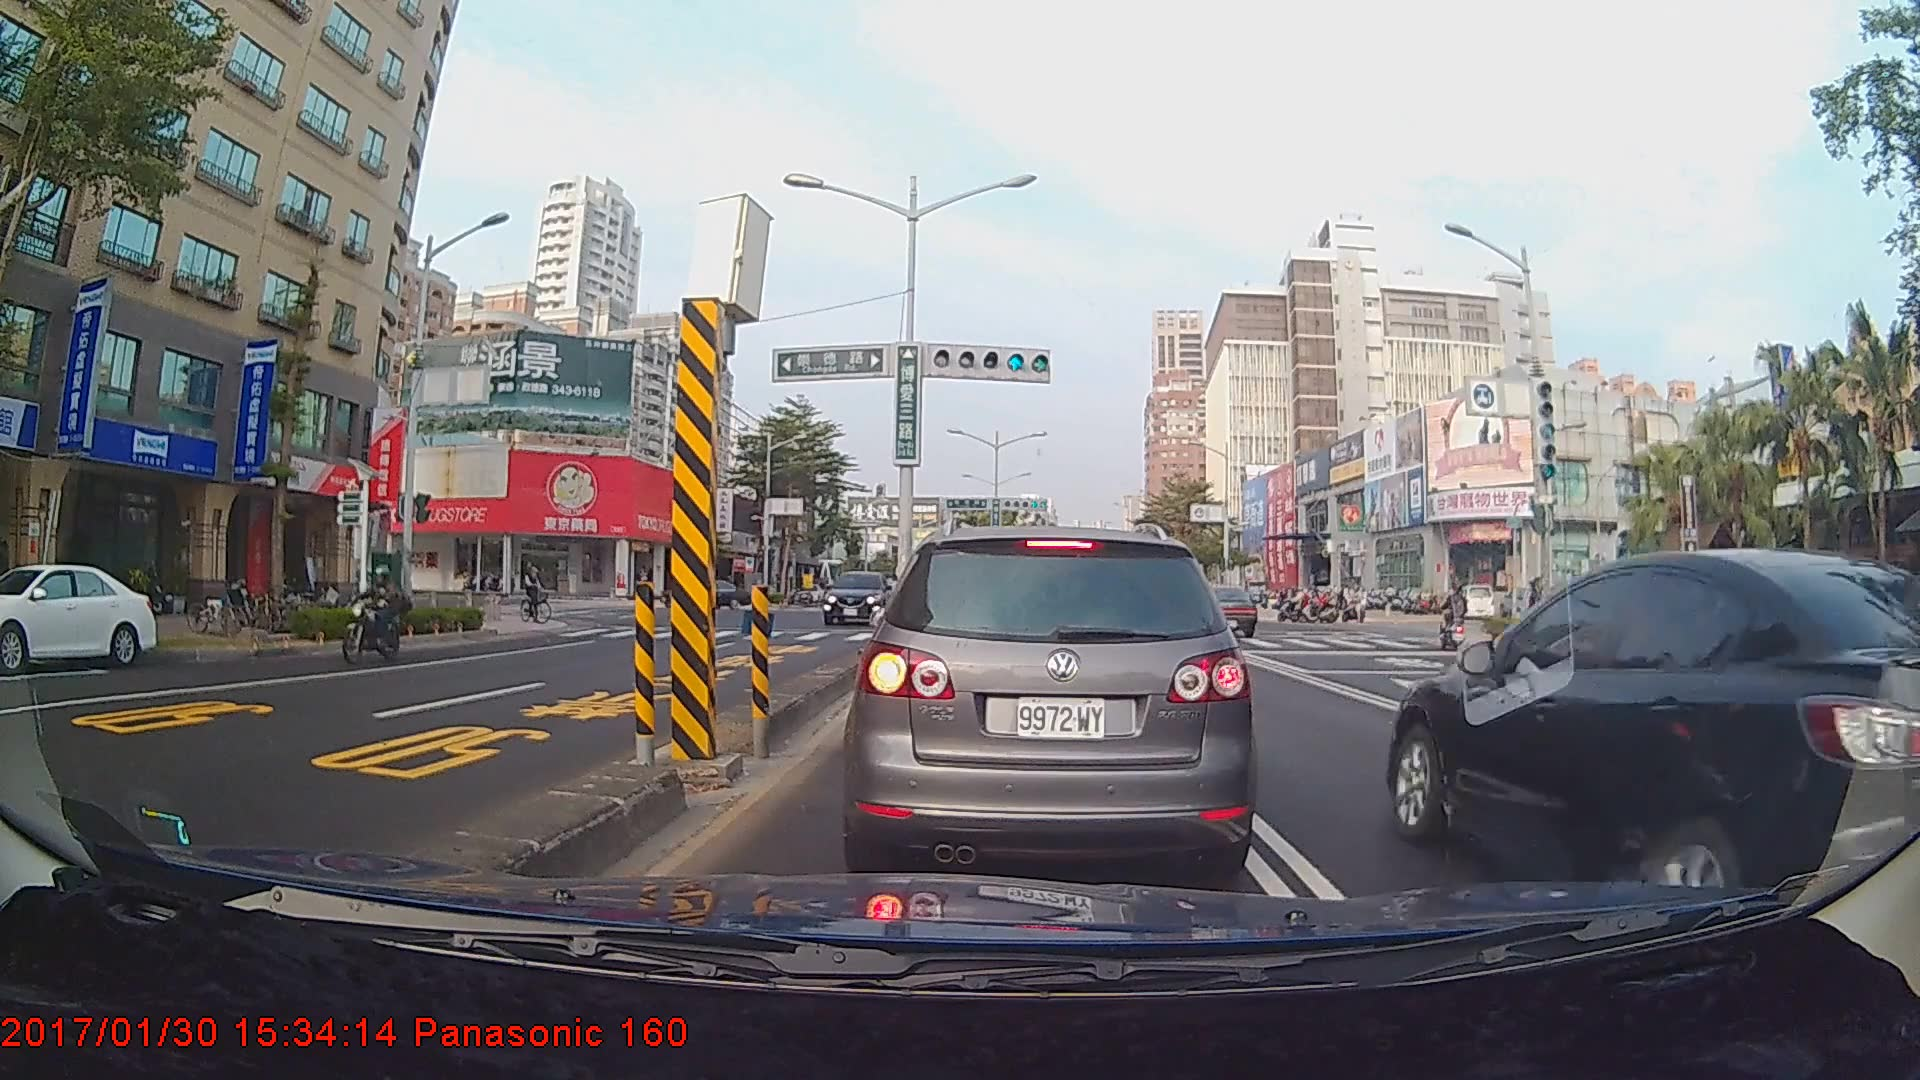rider: (339, 559, 412, 669), (518, 559, 561, 629), (1443, 582, 1474, 655)
vehicle: (1384, 546, 1920, 882), (853, 521, 1250, 881), (0, 561, 161, 671), (819, 568, 894, 625), (1179, 585, 1258, 637), (657, 577, 750, 611)
